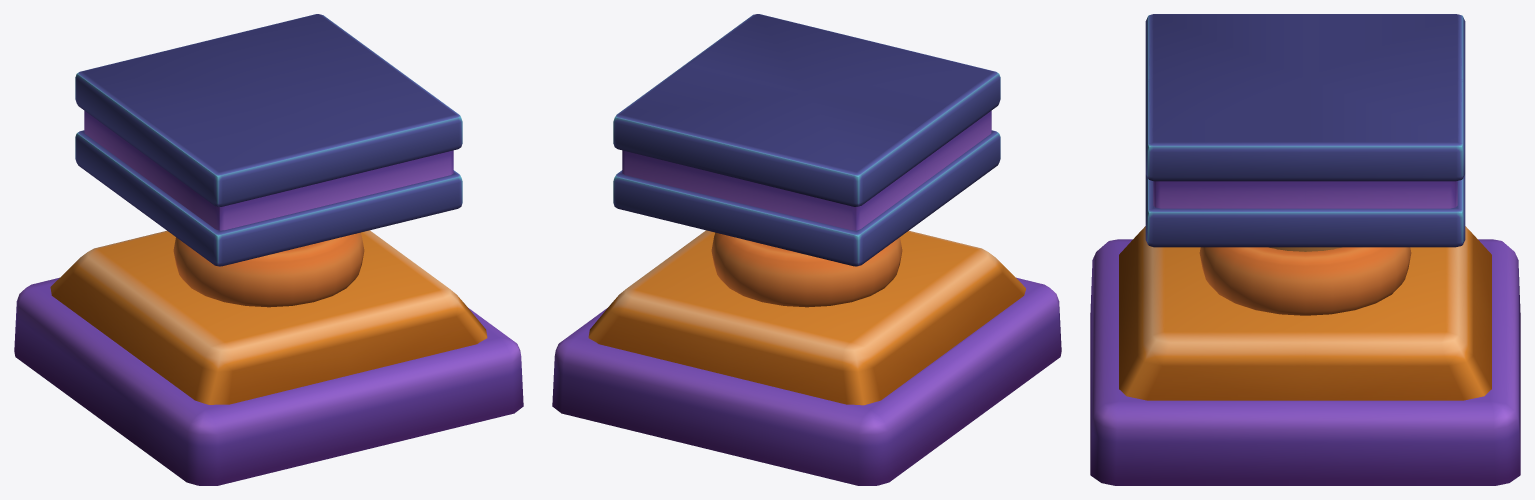
The model's file is Table.fbx.
The picture shows the model from 3 angles, left to right: view 1: azimuth 30°, elevation 25°; view 2: azimuth 150°, elevation 25°; view 3: azimuth 270°, elevation 25°; orthographic projection. The views are drawn at different scales.
Visible parts, largest first — view 1: mdl_Table_01_9, mdl_Table_01_5, Metal; view 2: mdl_Table_01_9, mdl_Table_01_5, Metal; view 3: mdl_Table_01_9, mdl_Table_01_5, Metal.
Boxes of the visible parts, left/top/right/bottom form: mdl_Table_01_9: left=14, top=230, right=523, bottom=485; mdl_Table_01_5: left=75, top=14, right=462, bottom=266; Metal: left=173, top=232, right=364, bottom=307; mdl_Table_01_9: left=552, top=230, right=1061, bottom=485; mdl_Table_01_5: left=613, top=14, right=1000, bottom=266; Metal: left=711, top=232, right=902, bottom=307; mdl_Table_01_9: left=1090, top=226, right=1520, bottom=485; mdl_Table_01_5: left=1145, top=14, right=1465, bottom=247; Metal: left=1199, top=247, right=1411, bottom=315.
Bounding box in the file's own units: 135 × 110 × 135.
Materials: 1 (1 with a texture image).
